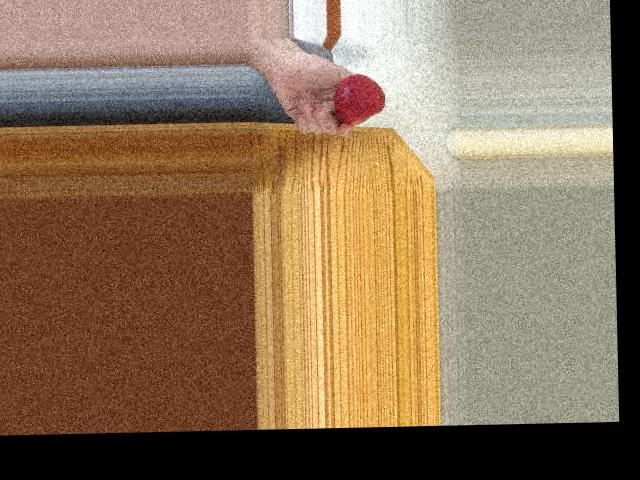apple: (331, 72, 387, 126)
